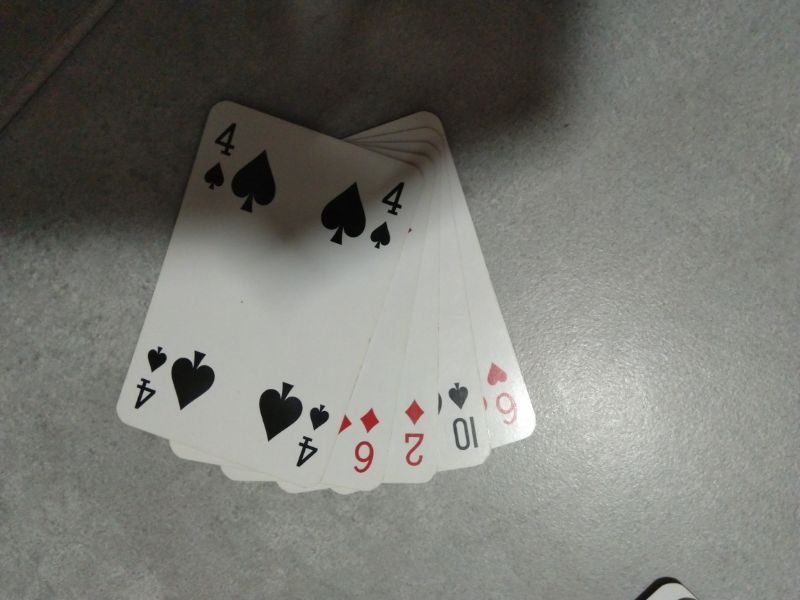2d: (393, 393, 433, 474)
4s: (367, 174, 409, 265), (291, 388, 334, 476), (201, 111, 241, 203), (130, 337, 170, 418)
6d: (346, 397, 388, 483)
6h: (481, 359, 527, 436)
Ts: (440, 379, 490, 460)
